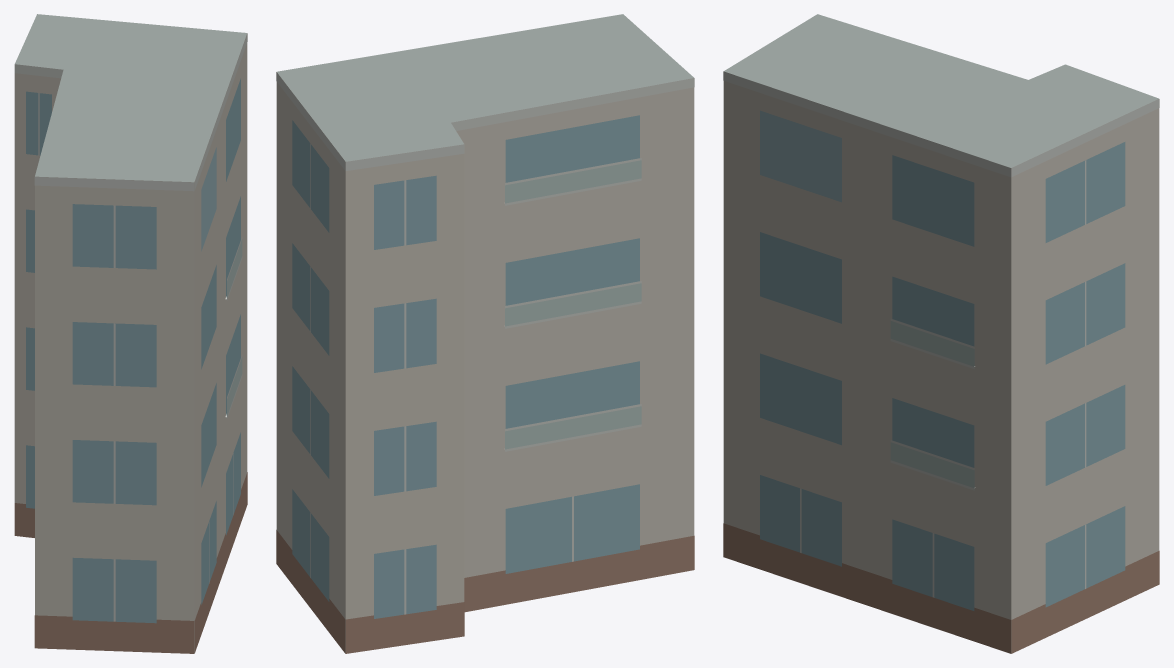
The model's file is survey-upis-32489873.glb.
The picture shows the model from 3 angles, left to right: view 1: azimuth 30°, elevation 25°; view 2: azimuth 150°, elevation 25°; view 3: azimuth 270°, elevation 25°; orthographic projection. The views are drawn at different scales.
Parts seen in each view (by area): view 1: survey-upis-32489873.tmp; view 2: survey-upis-32489873.tmp; view 3: survey-upis-32489873.tmp.
Part boxes in pixels (x1,y1,x2,y2): survey-upis-32489873.tmp: (14, 14, 247, 653); survey-upis-32489873.tmp: (276, 14, 694, 653); survey-upis-32489873.tmp: (723, 14, 1159, 653).
Size of the model in its own units: 8.72 by 12.8 by 10.42.
